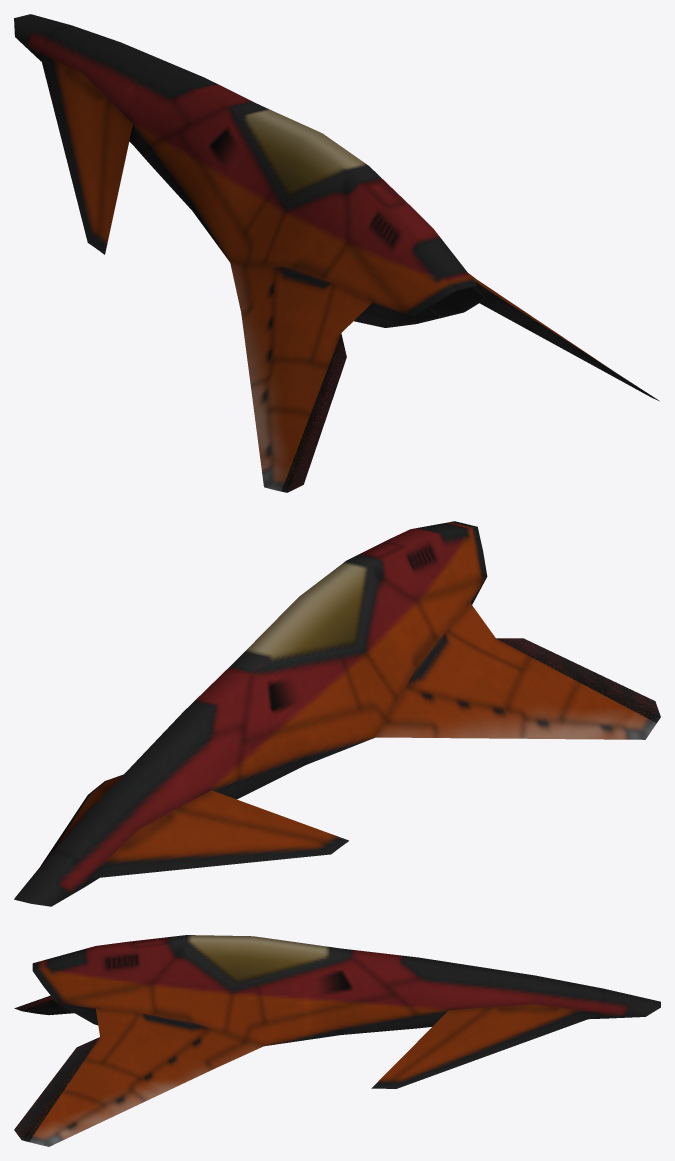
File: wyvern.FBX
The picture shows the model from 3 angles, top to bottom: view 1: azimuth 30°, elevation 25°; view 2: azimuth 150°, elevation 25°; view 3: azimuth 270°, elevation 25°; orthographic projection. The views are drawn at different scales.
Visible parts, largest first — view 1: wyvern; view 2: wyvern; view 3: wyvern.
Part boxes in pixels (x1=…): wyvern: x1=14, y1=14, x2=659, y2=492; wyvern: x1=14, y1=521, x2=660, y2=906; wyvern: x1=14, y1=935, x2=660, y2=1146.
Size of the model in its own units: 7.95 by 4 by 16.5.
